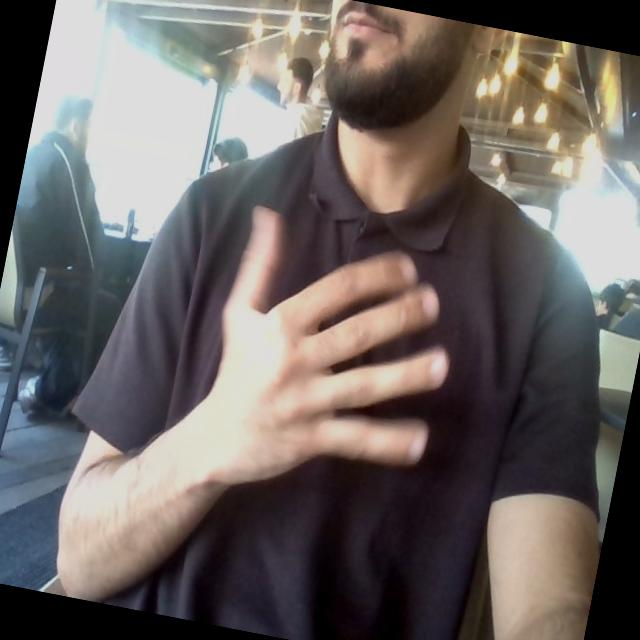Hand: (194, 208, 447, 484)
